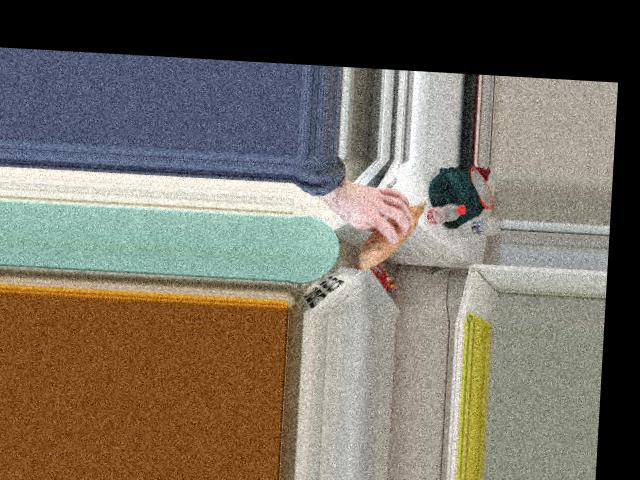sweet_potato: (359, 193, 423, 268)
